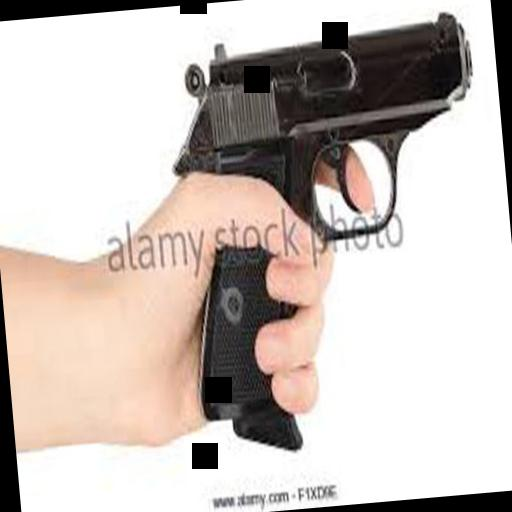Handgun: (162, 6, 503, 442)
